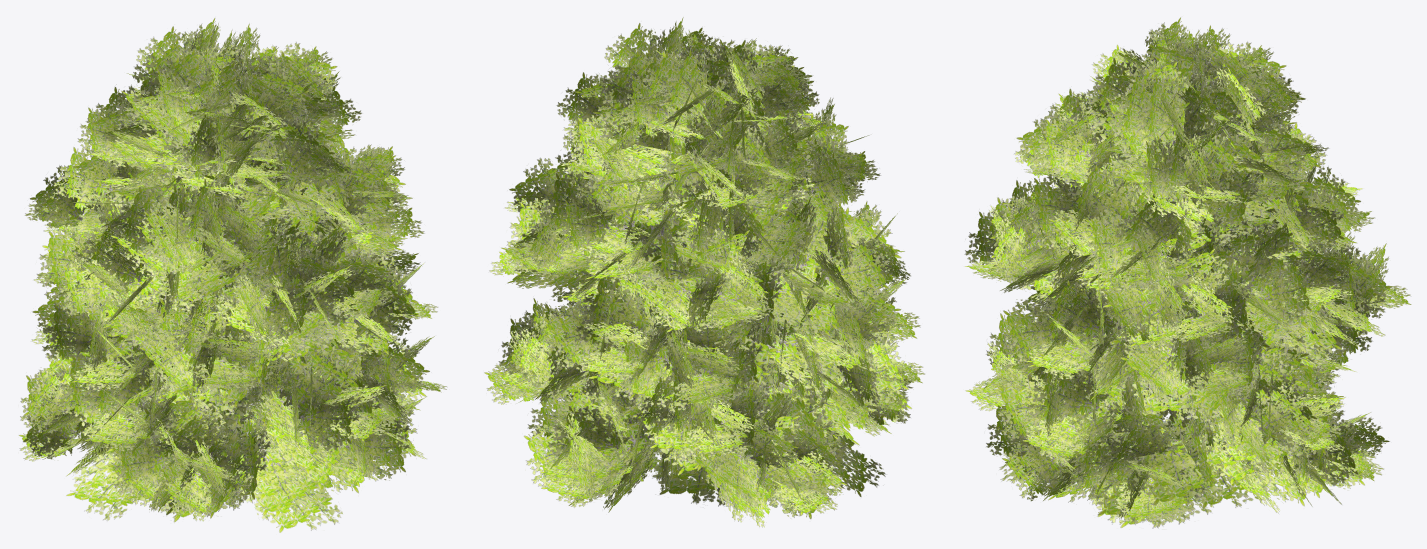
The model's file is tree.glb.
The picture shows the model from 3 angles, left to right: view 1: azimuth 30°, elevation 25°; view 2: azimuth 150°, elevation 25°; view 3: azimuth 270°, elevation 25°; orthographic projection.
Visible parts, largest first — view 1: leaf; view 2: leaf; view 3: leaf.
Boxes of the visible parts, left/top/right/bottom form: leaf: left=19, top=18, right=446, bottom=532; leaf: left=484, top=17, right=925, bottom=527; leaf: left=964, top=17, right=1411, bottom=529.
Bounding box in the file's own units: 78.33 × 85.16 × 78.8.
1 material, 1 textured.
